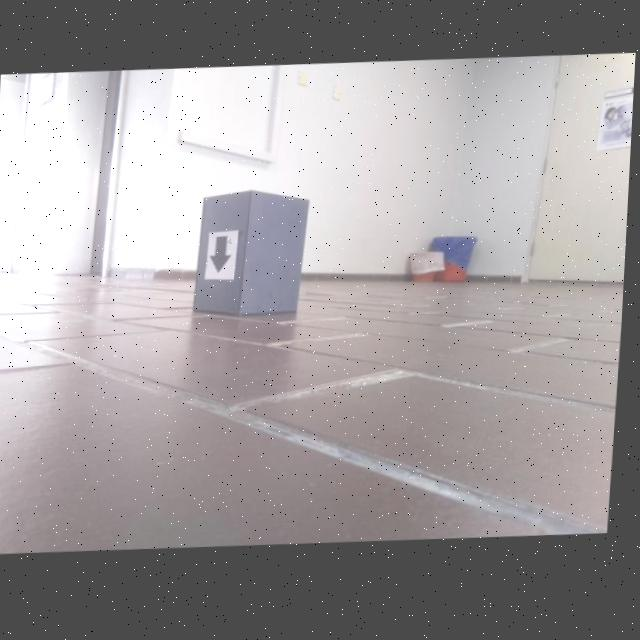DOWN: (211, 237, 235, 277)
